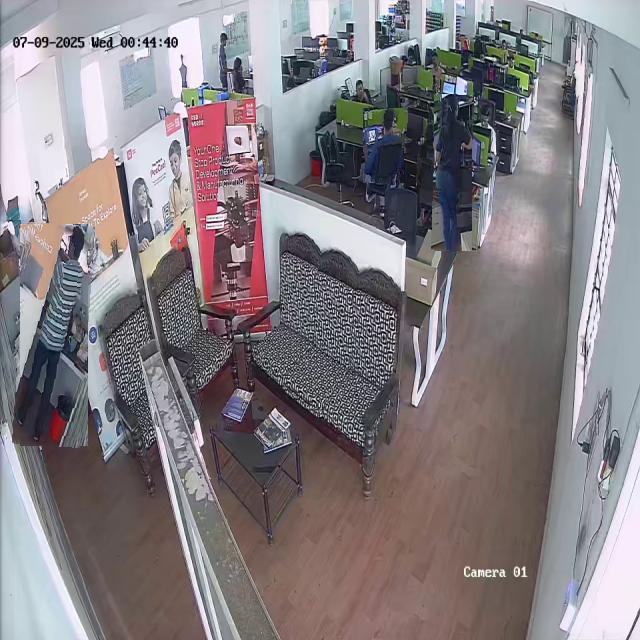person: (16, 223, 92, 447), (433, 95, 473, 251), (361, 107, 406, 184)
